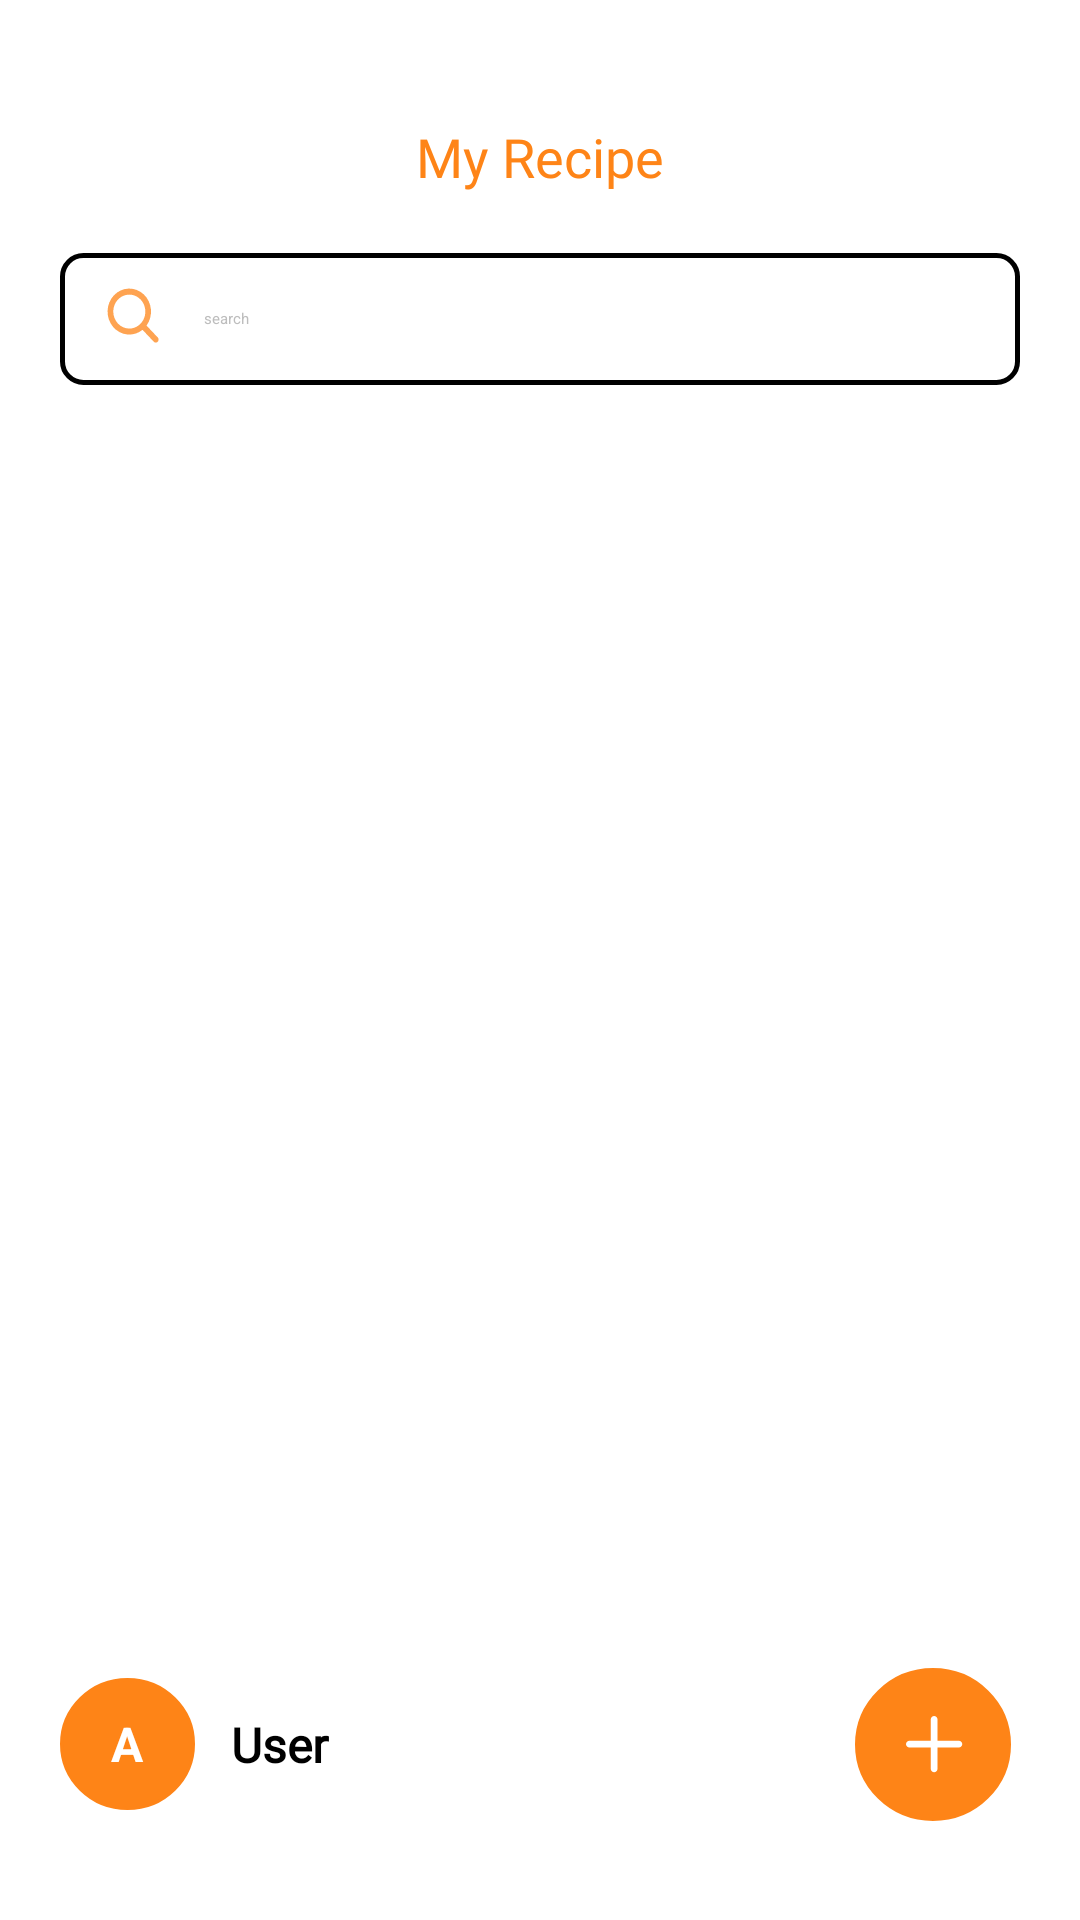

Icon click points for this 1080px×1920px phone screenshot, format [x,y]:
pluss: [933,1744]
